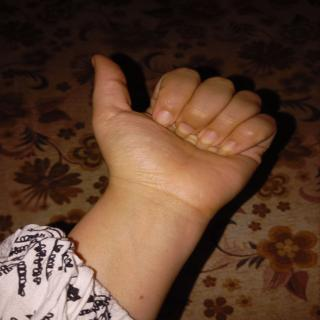DAD: (77, 42, 283, 235)
